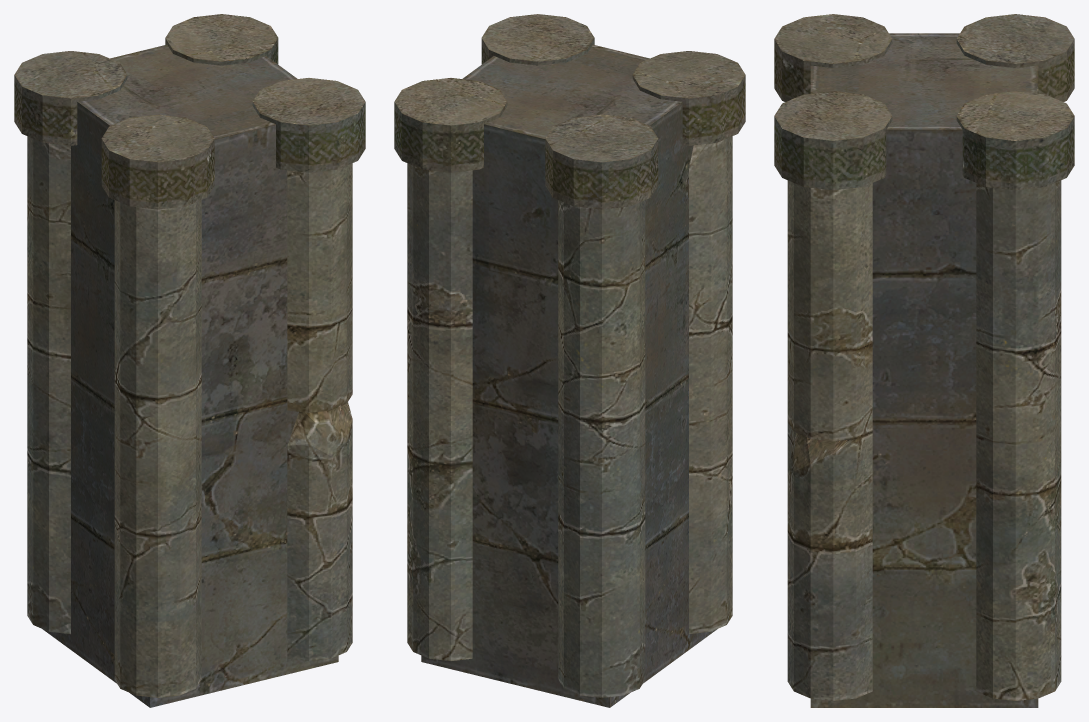
Rendered from bg_lut_lutomb_pillar08_sm_old.FBX.
3 renders of one model, left to right at view 1: azimuth 30°, elevation 25°; view 2: azimuth 150°, elevation 25°; view 3: azimuth 270°, elevation 25°, orthographic. The views are drawn at different scales.
Parts seen in each view (by area): view 1: bg_lut_lutomb_pillar08_sm_old; view 2: bg_lut_lutomb_pillar08_sm_old; view 3: bg_lut_lutomb_pillar08_sm_old.
Boxes of the visible parts, left/top/right/bottom form: bg_lut_lutomb_pillar08_sm_old: left=14, top=14, right=365, bottom=707; bg_lut_lutomb_pillar08_sm_old: left=394, top=14, right=745, bottom=707; bg_lut_lutomb_pillar08_sm_old: left=774, top=14, right=1074, bottom=707.
Bounding box in the file's own units: 132 × 282 × 132.
